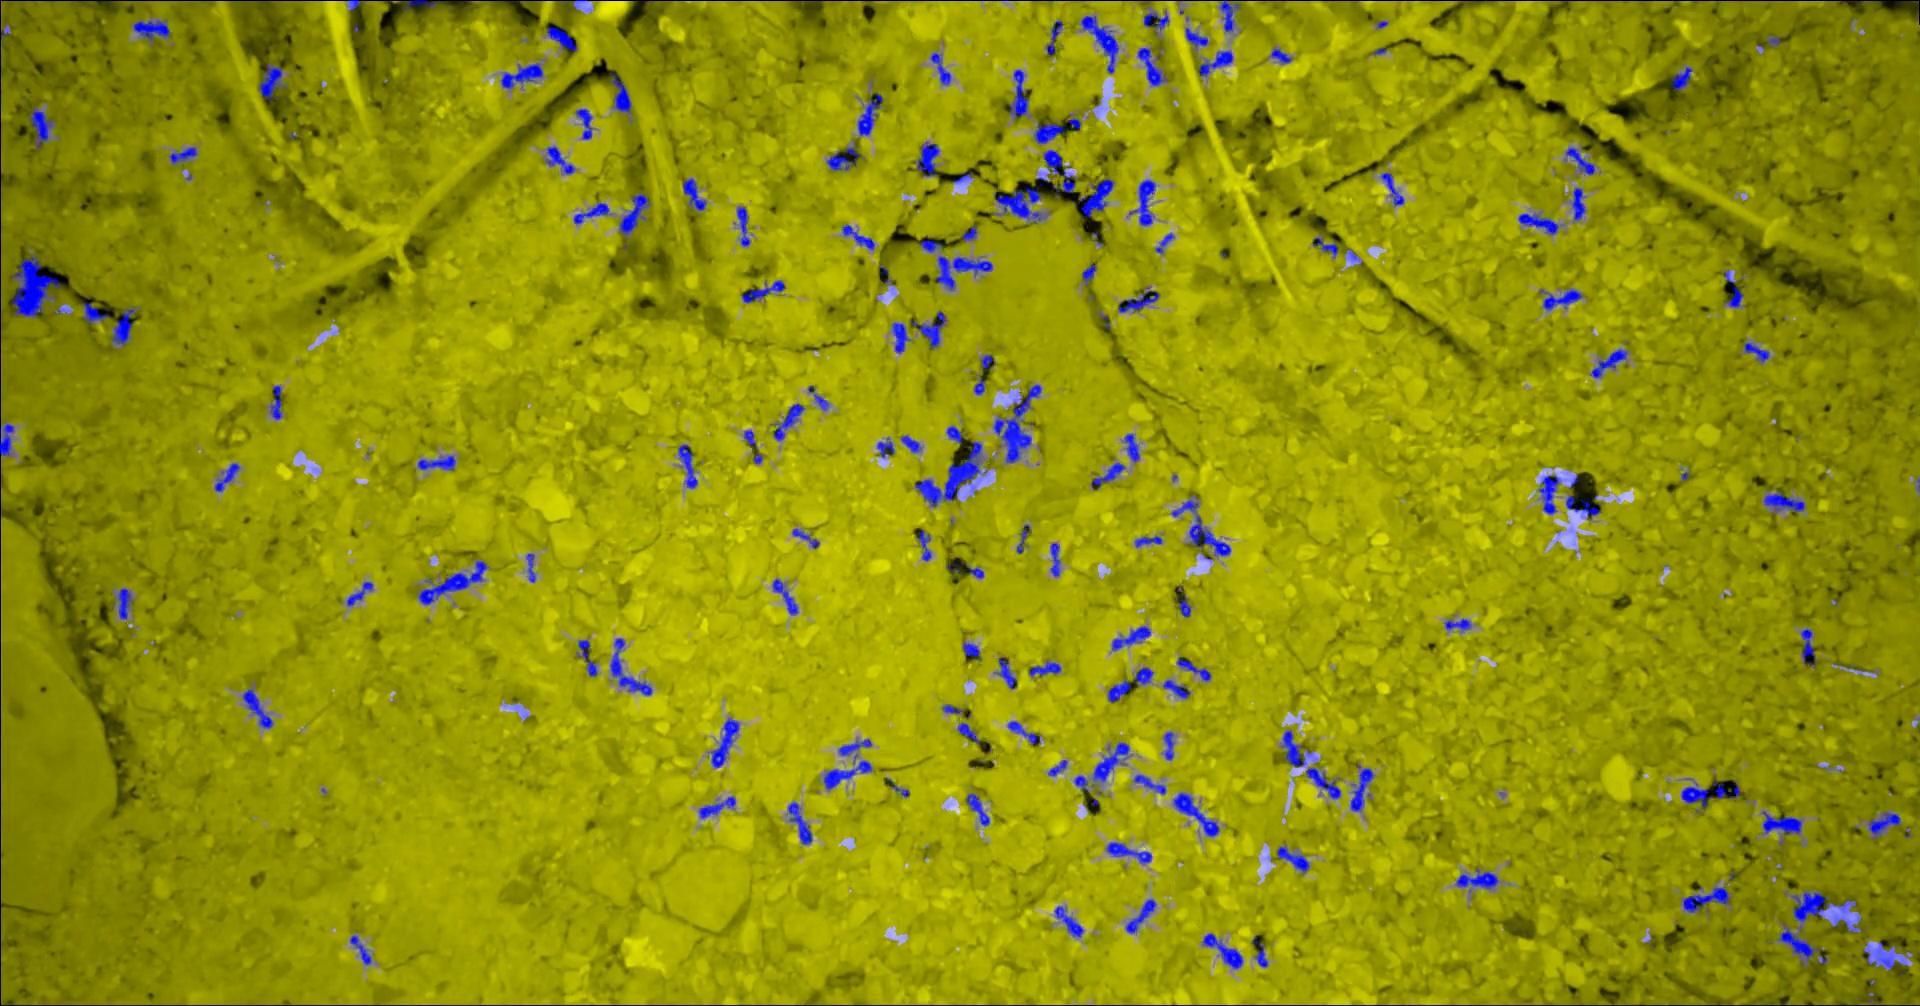ant: (418, 560, 488, 605), (823, 738, 871, 789), (610, 638, 651, 695), (1777, 923, 1827, 967), (1079, 15, 1117, 72), (1790, 890, 1855, 922), (1172, 793, 1219, 836), (935, 255, 992, 290), (996, 185, 1046, 221), (1187, 514, 1230, 555), (1043, 149, 1076, 197), (1680, 781, 1740, 807), (1092, 742, 1129, 781), (1201, 934, 1242, 968), (711, 718, 739, 767), (1862, 941, 1909, 970), (618, 193, 649, 238), (1128, 179, 1156, 226), (909, 311, 946, 347), (1079, 178, 1112, 217), (1683, 887, 1730, 912), (1137, 47, 1167, 85), (243, 688, 272, 728), (1349, 763, 1373, 810), (773, 403, 804, 439), (258, 64, 286, 103), (857, 91, 883, 135), (1125, 898, 1156, 934), (1590, 348, 1627, 377), (1117, 287, 1159, 312), (1305, 767, 1340, 798), (1010, 69, 1030, 119), (500, 64, 542, 88), (29, 107, 53, 149), (787, 801, 811, 843), (1111, 625, 1150, 650), (1538, 288, 1582, 310), (742, 279, 783, 302), (1105, 842, 1150, 862), (1054, 906, 1083, 937), (1197, 50, 1232, 76), (1090, 462, 1125, 488), (1564, 494, 1600, 520), (772, 578, 797, 614), (1761, 810, 1801, 833), (110, 307, 135, 344), (1867, 812, 1900, 838), (1276, 846, 1309, 873), (677, 445, 697, 488), (1455, 868, 1498, 888), (1281, 730, 1305, 766), (610, 71, 630, 113), (1538, 475, 1559, 514), (841, 224, 874, 249), (1517, 213, 1558, 234), (573, 202, 611, 224), (545, 145, 574, 173), (916, 141, 938, 177), (1763, 492, 1804, 511), (825, 146, 858, 170), (965, 793, 989, 826), (1032, 122, 1069, 144), (698, 796, 735, 818), (1380, 171, 1403, 206), (1176, 657, 1210, 680), (1564, 147, 1594, 174), (546, 25, 577, 51), (1723, 269, 1743, 307), (682, 178, 706, 210), (1007, 720, 1039, 744), (132, 19, 169, 39), (215, 462, 239, 492), (577, 639, 596, 676), (345, 580, 372, 606), (930, 52, 950, 84), (996, 657, 1016, 688), (1133, 774, 1164, 794), (349, 935, 371, 964), (1219, 0, 1239, 30), (1143, 11, 1168, 34), (891, 323, 910, 353), (417, 455, 455, 470), (1801, 627, 1816, 666), (1171, 494, 1197, 516), (1251, 935, 1267, 967), (1046, 20, 1062, 55), (1107, 680, 1130, 702), (83, 301, 107, 323), (737, 206, 749, 246), (1743, 342, 1769, 362), (808, 385, 828, 410), (1312, 238, 1338, 257), (1162, 680, 1189, 699), (168, 146, 196, 164), (1185, 27, 1208, 48), (1671, 66, 1691, 90), (792, 528, 818, 547), (916, 528, 931, 560), (1029, 661, 1060, 676), (957, 721, 979, 743), (575, 108, 590, 138), (1571, 187, 1585, 220), (117, 587, 131, 619), (399, 0, 442, 10), (886, 777, 909, 796), (1124, 433, 1139, 461), (0, 423, 13, 455), (1832, 920, 1864, 932), (270, 385, 282, 419), (1016, 525, 1030, 553), (1134, 666, 1153, 686), (900, 434, 922, 452), (1175, 593, 1190, 617), (1156, 232, 1173, 253), (876, 438, 894, 457), (1134, 535, 1161, 547), (963, 641, 980, 661), (1050, 542, 1060, 575), (1270, 48, 1291, 64), (1443, 619, 1470, 630), (1081, 263, 1095, 285), (524, 553, 535, 582), (1163, 730, 1173, 760), (946, 426, 963, 443), (1074, 775, 1092, 791), (919, 239, 942, 251), (1048, 760, 1065, 775), (980, 354, 994, 371), (973, 375, 984, 394), (963, 225, 977, 240), (966, 565, 983, 578), (1067, 114, 1079, 130), (942, 704, 963, 713), (743, 431, 756, 445)
